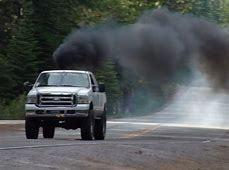smoke: (53, 9, 229, 67)
